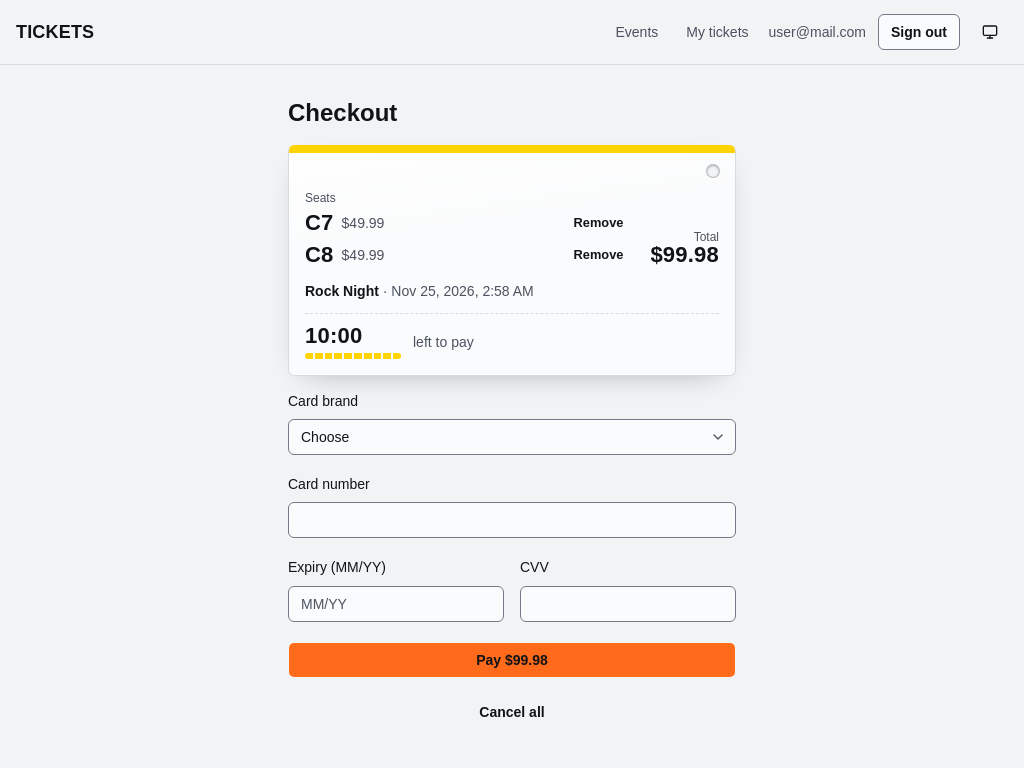
it: cancelling the whole group › cancels every reservation, returns to the event and frees the seats
Click the button "Cancel all".
click(512, 712)  # box top-left (288, 694), bottom-right (736, 730)
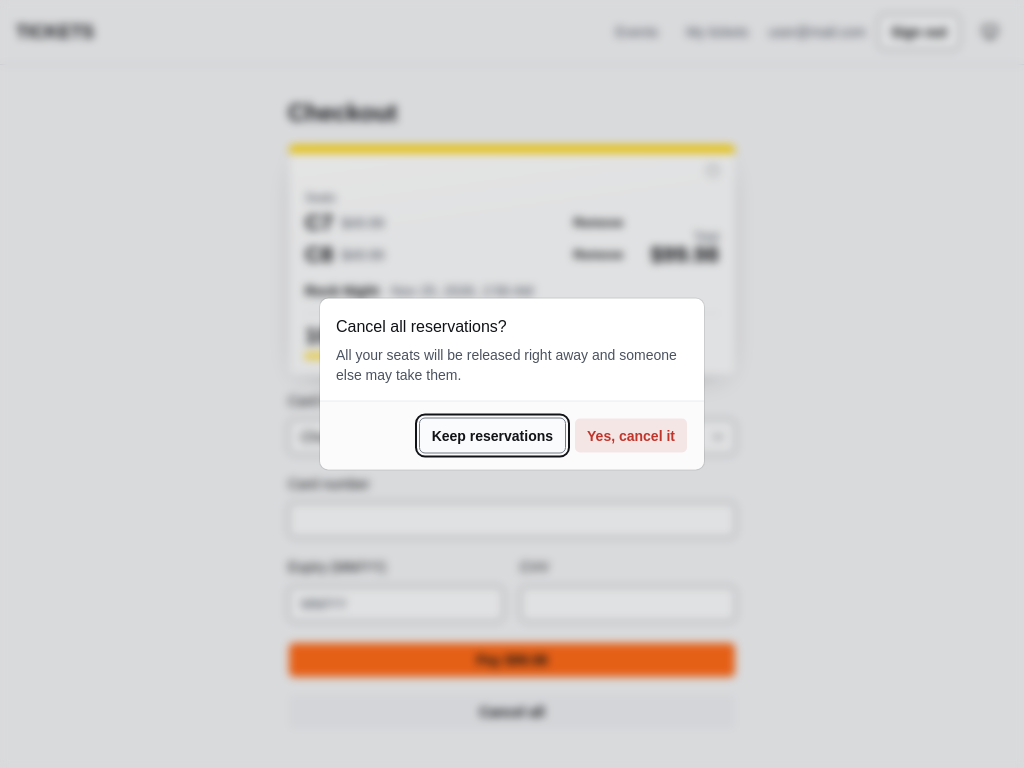
Click the button "Yes, cancel it".
click(631, 436)  # box top-left (574, 418), bottom-right (688, 454)
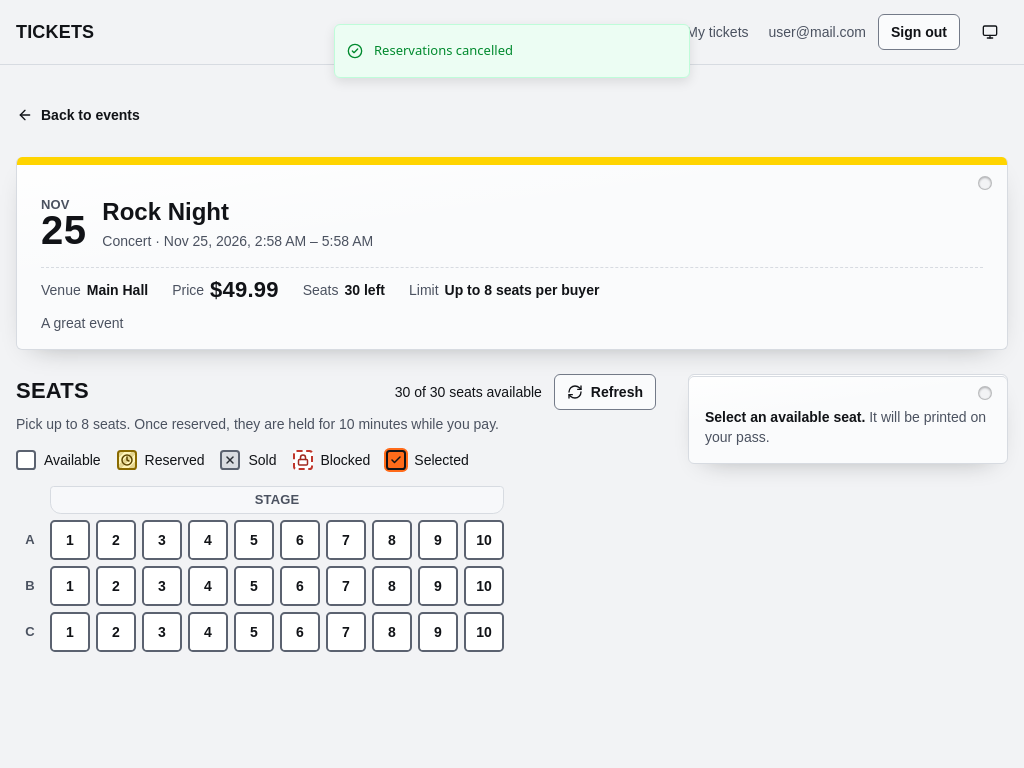
Expected: the text "Reservations cancelled" is shown, top-left (374, 41), bottom-right (513, 60)
